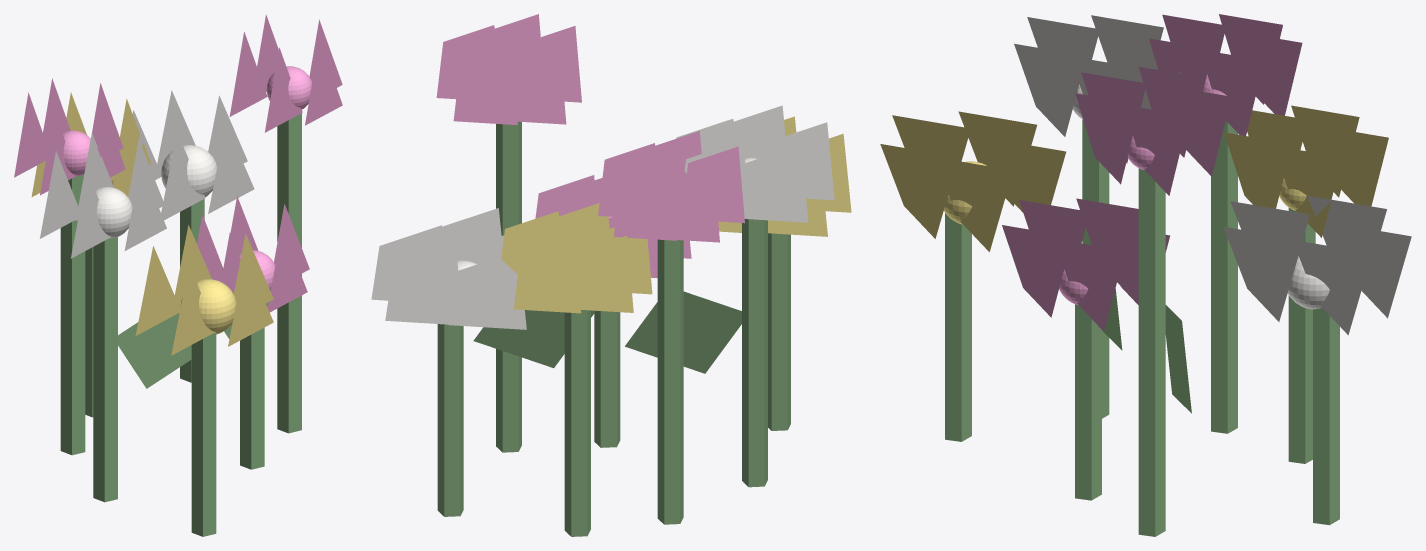
Rendered from ASTX_VEG_FLOWERS_A.glb.
The picture shows the model from 3 angles, left to right: view 1: azimuth 30°, elevation 25°; view 2: azimuth 150°, elevation 25°; view 3: azimuth 270°, elevation 25°; orthographic projection. The views are drawn at different scales.
Parts seen in each view (by area): view 1: ASTX_VEG_FLOWERS_A_stem04, ASTX_VEG_FLOWERS_A_stem00, ASTX_VEG_FLOWERS_A_stem03, ASTX_VEG_FLOWERS_A_stem05, ASTX_VEG_FLOWERS_A_stem06, ASTX_VEG_FLOWERS_A_leaf1, ASTX_VEG_FLOWERS_A_fl01_p4, ASTX_VEG_FLOWERS_A_fl05_p4, ASTX_VEG_FLOWERS_A_fl05_p2, ASTX_VEG_FLOWERS_A_fl04_p4, ASTX_VEG_FLOWERS_A_fl04_p2, ASTX_VEG_FLOWERS_A_fl01_p3 (+34 smaller); view 2: ASTX_VEG_FLOWERS_A_stem03, ASTX_VEG_FLOWERS_A_stem04, ASTX_VEG_FLOWERS_A_stem02, ASTX_VEG_FLOWERS_A_stem00, ASTX_VEG_FLOWERS_A_stem01, ASTX_VEG_FLOWERS_A_stem05, ASTX_VEG_FLOWERS_A_leaf1, ASTX_VEG_FLOWERS_A_fl01_p1, ASTX_VEG_FLOWERS_A_fl01_p2, ASTX_VEG_FLOWERS_A_fl04_p2, ASTX_VEG_FLOWERS_A_fl02_p2, ASTX_VEG_FLOWERS_A_fl02_p1 (+23 smaller); view 3: ASTX_VEG_FLOWERS_A_stem00, ASTX_VEG_FLOWERS_A_stem03, ASTX_VEG_FLOWERS_A_stem05, ASTX_VEG_FLOWERS_A_stem01, ASTX_VEG_FLOWERS_A_stem06, ASTX_VEG_FLOWERS_A_stem02, ASTX_VEG_FLOWERS_A_fl01_p4, ASTX_VEG_FLOWERS_A_fl05_p4, ASTX_VEG_FLOWERS_A_fl01_p0, ASTX_VEG_FLOWERS_A_fl05_p0, ASTX_VEG_FLOWERS_A_fl04_p4, ASTX_VEG_FLOWERS_A_fl06_p4 (+32 smaller).
Boxes of the visible parts, <box> form: ASTX_VEG_FLOWERS_A_stem04: <box>93,237,117,502</box>; ASTX_VEG_FLOWERS_A_stem00: <box>277,113,301,433</box>; ASTX_VEG_FLOWERS_A_stem03: <box>60,174,85,455</box>; ASTX_VEG_FLOWERS_A_stem05: <box>191,332,216,536</box>; ASTX_VEG_FLOWERS_A_stem06: <box>240,327,264,469</box>; ASTX_VEG_FLOWERS_A_leaf1: <box>118,313,191,388</box>; ASTX_VEG_FLOWERS_A_fl01_p4: <box>208,123,254,213</box>; ASTX_VEG_FLOWERS_A_fl05_p4: <box>228,256,273,346</box>; ASTX_VEG_FLOWERS_A_fl05_p2: <box>135,246,180,335</box>; ASTX_VEG_FLOWERS_A_fl04_p4: <box>124,163,166,250</box>; ASTX_VEG_FLOWERS_A_fl04_p2: <box>40,151,78,238</box>; ASTX_VEG_FLOWERS_A_fl01_p3: <box>161,132,205,220</box>; ASTX_VEG_FLOWERS_A_stem03: <box>657,239,683,524</box>; ASTX_VEG_FLOWERS_A_stem04: <box>742,219,767,487</box>; ASTX_VEG_FLOWERS_A_stem02: <box>564,310,590,536</box>; ASTX_VEG_FLOWERS_A_stem00: <box>496,121,521,452</box>; ASTX_VEG_FLOWERS_A_stem01: <box>437,324,463,516</box>; ASTX_VEG_FLOWERS_A_stem05: <box>768,233,790,430</box>; ASTX_VEG_FLOWERS_A_leaf1: <box>625,291,741,373</box>; ASTX_VEG_FLOWERS_A_fl01_p1: <box>385,246,458,324</box>; ASTX_VEG_FLOWERS_A_fl01_p2: <box>448,256,526,329</box>; ASTX_VEG_FLOWERS_A_fl04_p2: <box>741,145,808,222</box>; ASTX_VEG_FLOWERS_A_fl02_p2: <box>568,235,633,312</box>; ASTX_VEG_FLOWERS_A_fl02_p1: <box>514,236,581,313</box>; ASTX_VEG_FLOWERS_A_stem00: <box>1138,168,1165,536</box>; ASTX_VEG_FLOWERS_A_stem03: <box>1211,120,1237,433</box>; ASTX_VEG_FLOWERS_A_stem05: <box>945,213,971,441</box>; ASTX_VEG_FLOWERS_A_stem01: <box>1313,308,1339,525</box>; ASTX_VEG_FLOWERS_A_stem06: <box>1075,304,1101,500</box>; ASTX_VEG_FLOWERS_A_stem02: <box>1288,208,1315,463</box>; ASTX_VEG_FLOWERS_A_fl01_p4: <box>1223,226,1302,321</box>; ASTX_VEG_FLOWERS_A_fl05_p4: <box>880,144,958,238</box>; ASTX_VEG_FLOWERS_A_fl01_p0: <box>1292,240,1372,335</box>; ASTX_VEG_FLOWERS_A_fl05_p0: <box>934,157,1013,251</box>; ASTX_VEG_FLOWERS_A_fl04_p4: <box>1014,43,1086,136</box>; ASTX_VEG_FLOWERS_A_fl06_p4: <box>1002,225,1072,317</box>.
Size of the model in its own units: 0.4354 by 0.4892 by 0.5348.
